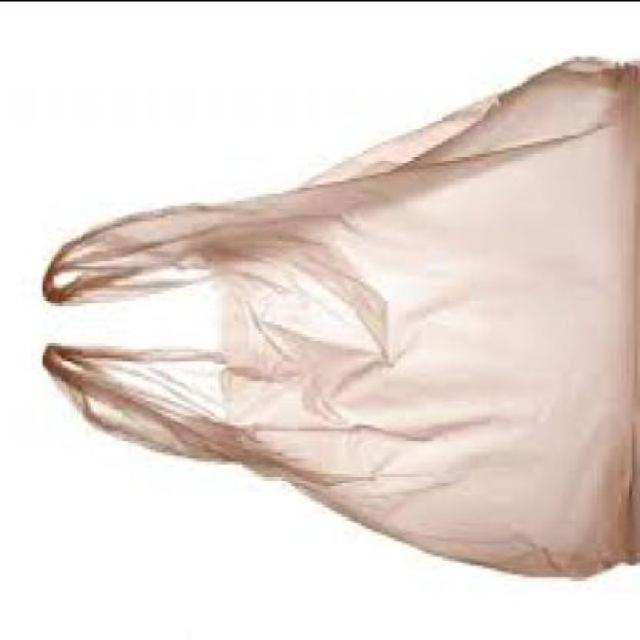PLASTIC: (40, 59, 637, 582)
